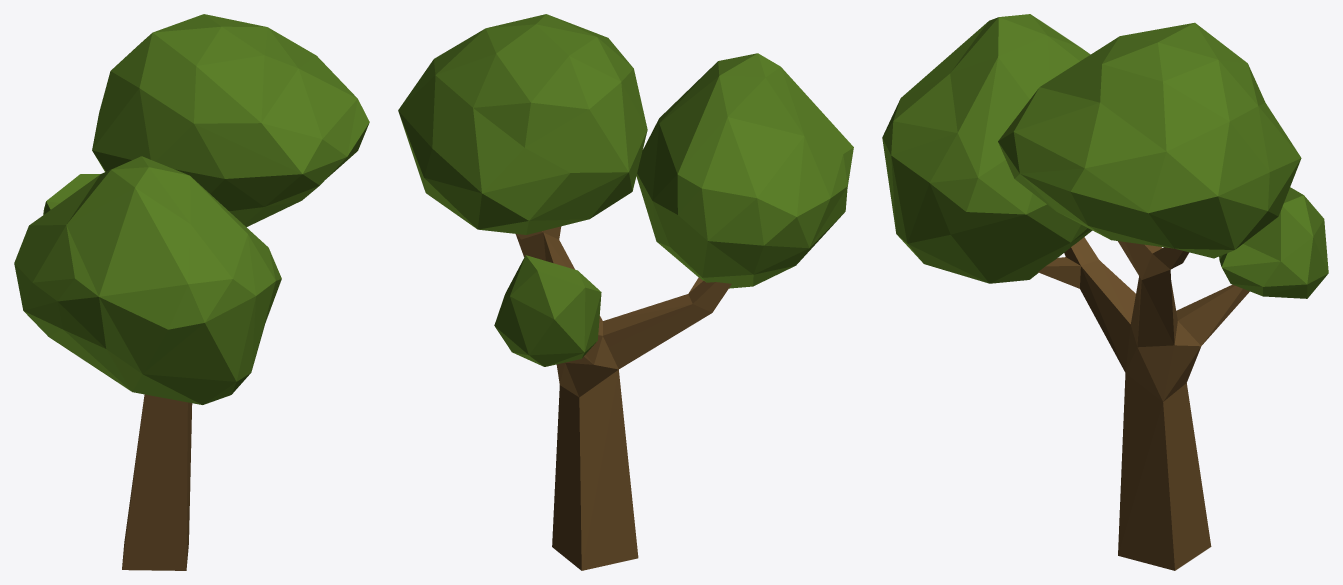
Rendered from tree-08.glb.
3 views of the same model, side by side, from view 1: azimuth 30°, elevation 25°; view 2: azimuth 150°, elevation 25°; view 3: azimuth 270°, elevation 25° (orthographic). The views are drawn at different scales.
Parts seen in each view (by area): view 1: Tree1_3; view 2: Tree1_3; view 3: Tree1_3.
Part boxes in pixels (left/top/right/bottom): Tree1_3: left=14, top=14, right=369, bottom=570; Tree1_3: left=398, top=14, right=853, bottom=570; Tree1_3: left=882, top=14, right=1328, bottom=570.
Size of the model in its own units: 5.58 by 7.55 by 5.65.
